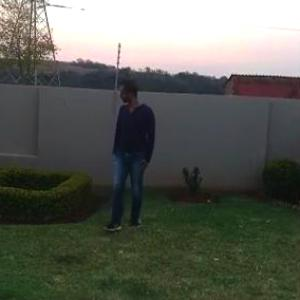follow: (104, 73, 153, 245)
